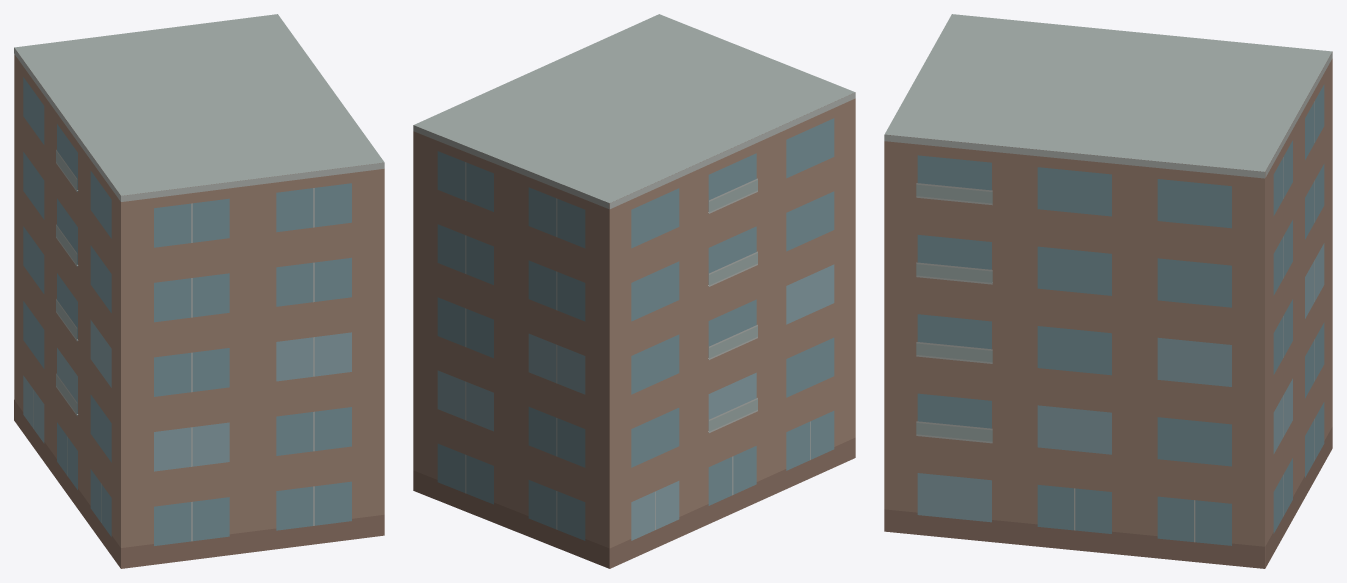
Rendered from survey-upis-32659455.glb.
3 renders of one model, left to right at view 1: azimuth 30°, elevation 25°; view 2: azimuth 150°, elevation 25°; view 3: azimuth 270°, elevation 25°, orthographic. The views are drawn at different scales.
Visible parts, largest first — view 1: survey-upis-32659455.tmp; view 2: survey-upis-32659455.tmp; view 3: survey-upis-32659455.tmp.
Boxes of the visible parts, x1,y1,x2,y2 form: survey-upis-32659455.tmp: (14, 14, 384, 568); survey-upis-32659455.tmp: (413, 14, 855, 568); survey-upis-32659455.tmp: (884, 14, 1332, 568).
Bounding box in the file's own units: 12.37 × 14.5 × 14.84.
